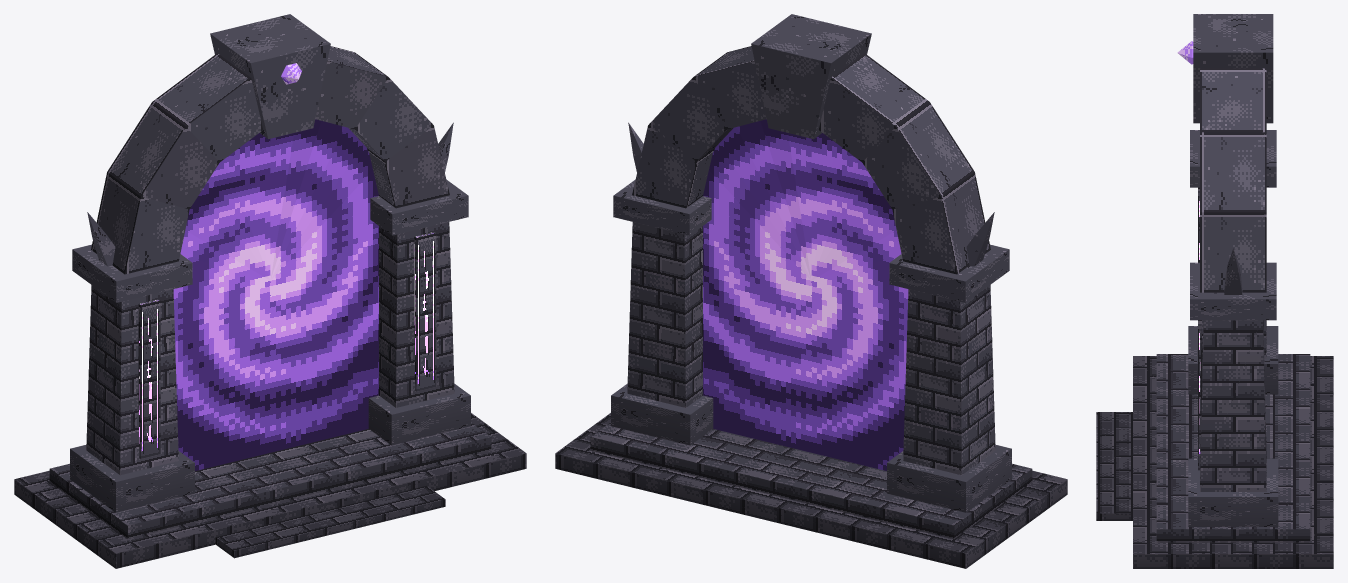
File: mplus_portal.glb
3 renders of one model, left to right at view 1: azimuth 30°, elevation 25°; view 2: azimuth 150°, elevation 25°; view 3: azimuth 270°, elevation 25°, orthographic.
Parts seen in each view (by area): view 1: mplus_portal, portal_surface; view 2: mplus_portal, portal_surface; view 3: mplus_portal.
Part boxes in pixels (x1,y1,x2,y2): mplus_portal: (14,14,526,568); portal_surface: (173,119,378,470); mplus_portal: (555,14,1067,568); portal_surface: (703,119,908,470); mplus_portal: (1096,14,1333,568).
Bounding box in the file's own units: 7 × 7.21 × 3.55.
6 materials, 6 textured.
